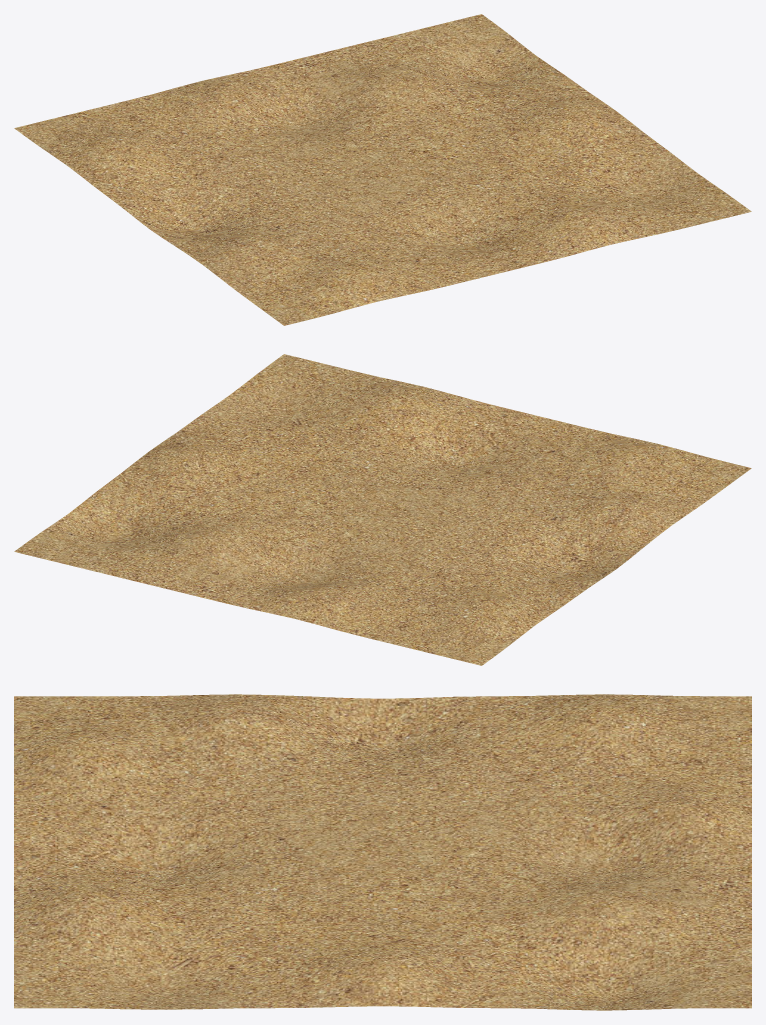
File: ground_.fbx
3 renders of one model, top to bottom at view 1: azimuth 30°, elevation 25°; view 2: azimuth 150°, elevation 25°; view 3: azimuth 270°, elevation 25°, orthographic. The views are drawn at different scales.
Parts seen in each view (by area): view 1: pPlane1; view 2: pPlane1; view 3: pPlane1.
Part boxes in pixels (x1,y1,x2,y2): pPlane1: [14, 14, 751, 325]; pPlane1: [14, 354, 751, 665]; pPlane1: [14, 694, 751, 1010].
Size of the model in its own units: 50 by 2.54 by 50.
Materials: 1 (1 with a texture image).
